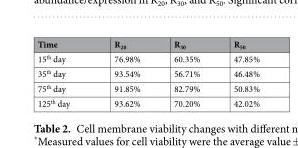table: (36, 37, 258, 109)
table column: (91, 37, 156, 109), (156, 37, 216, 109), (36, 37, 91, 109), (216, 37, 258, 109)
table column header: (36, 37, 258, 51)
table row: (36, 65, 258, 80), (36, 80, 258, 95), (36, 37, 258, 51), (36, 51, 258, 65), (36, 95, 258, 109)
